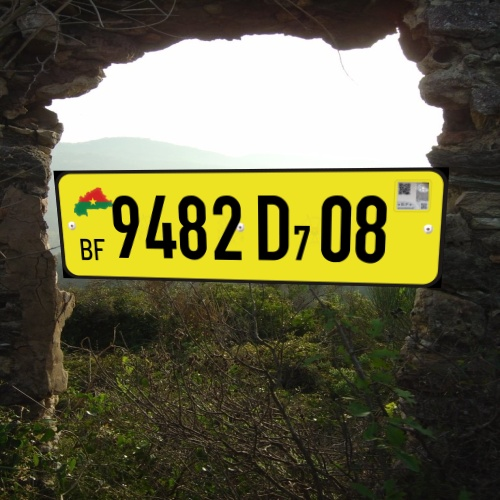plate: (45, 156, 447, 305)
